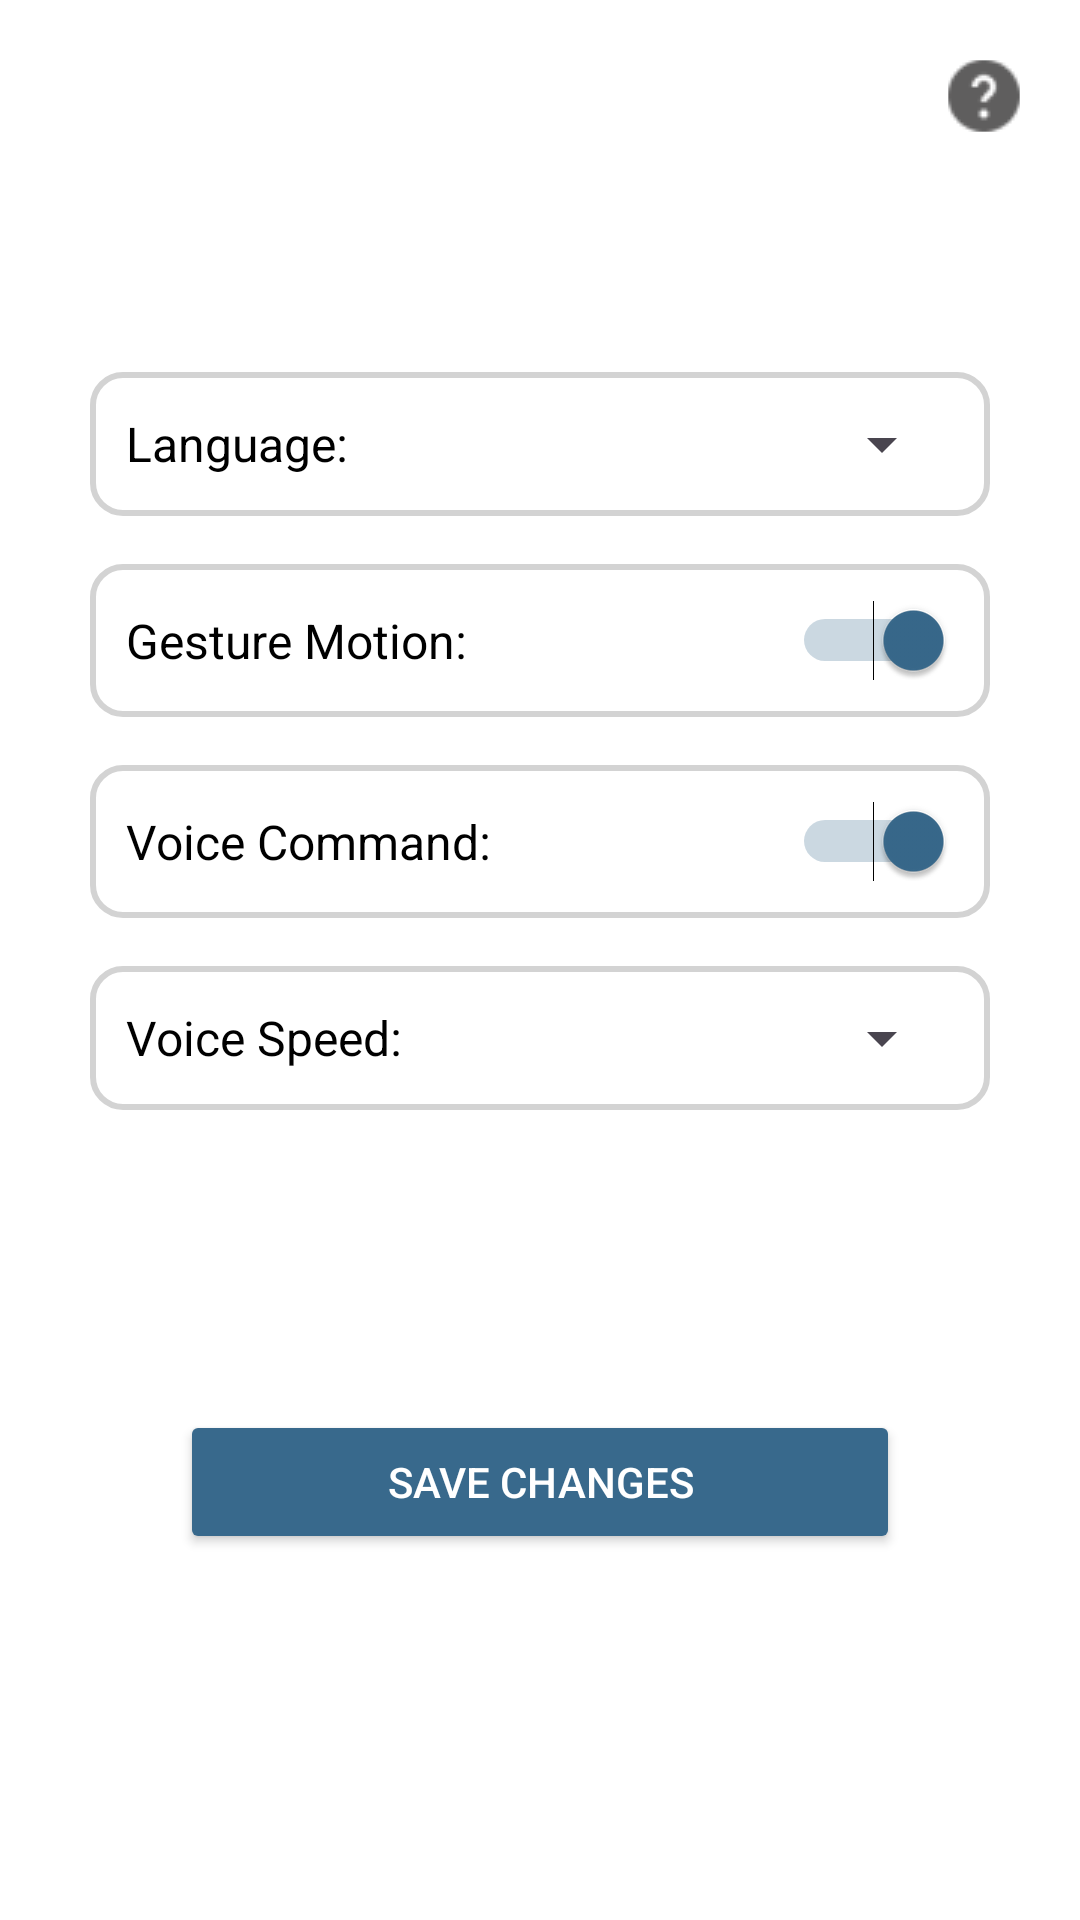

Icons on this 1080px x 1920px Android screen, each with its box as (x1=x1, y1=y1, x2=x2, y2=y2):
Help: (x1=948, y1=60, x2=1020, y2=132)
